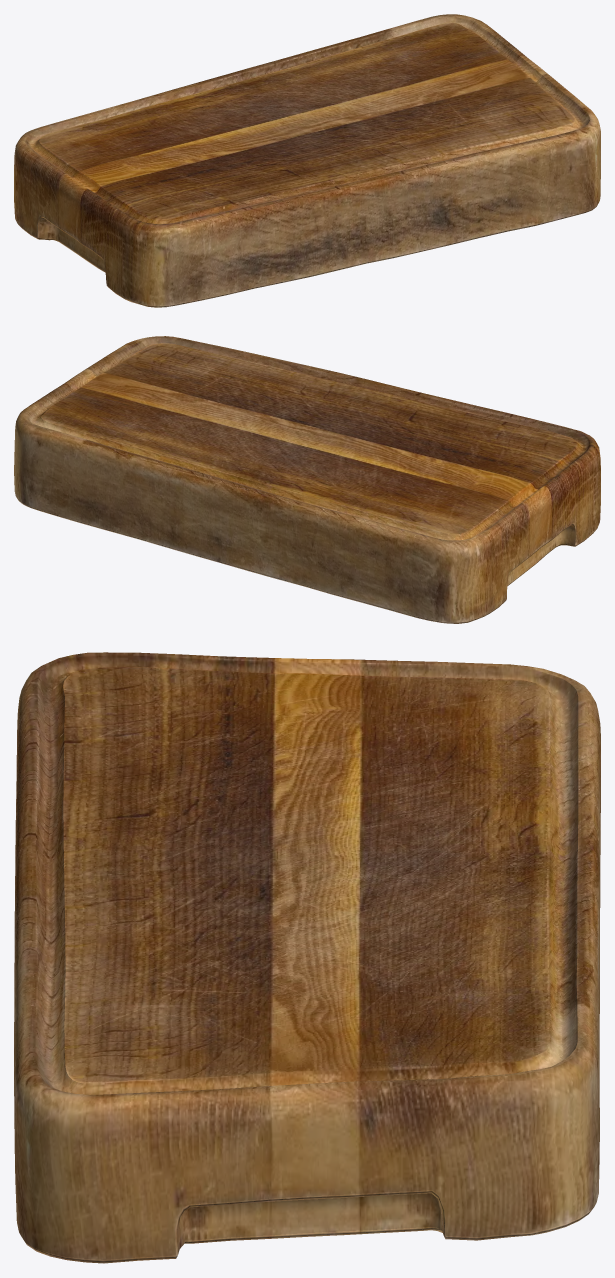
Rendered from board_wood.glb.
3 renders of one model, top to bottom at view 1: azimuth 30°, elevation 25°; view 2: azimuth 150°, elevation 25°; view 3: azimuth 270°, elevation 25°, orthographic. The views are drawn at different scales.
Visible parts, largest first — view 1: wooden_cutting_board.001; view 2: wooden_cutting_board.001; view 3: wooden_cutting_board.001.
Boxes of the visible parts, box(x1,y1,x2,y2) form: wooden_cutting_board.001: box(14, 14, 600, 307); wooden_cutting_board.001: box(14, 336, 600, 623); wooden_cutting_board.001: box(14, 652, 600, 1263).
Bounding box in the file's own units: 10.42 × 2.03 × 5.71.
Materials: 1 (1 with a texture image).
